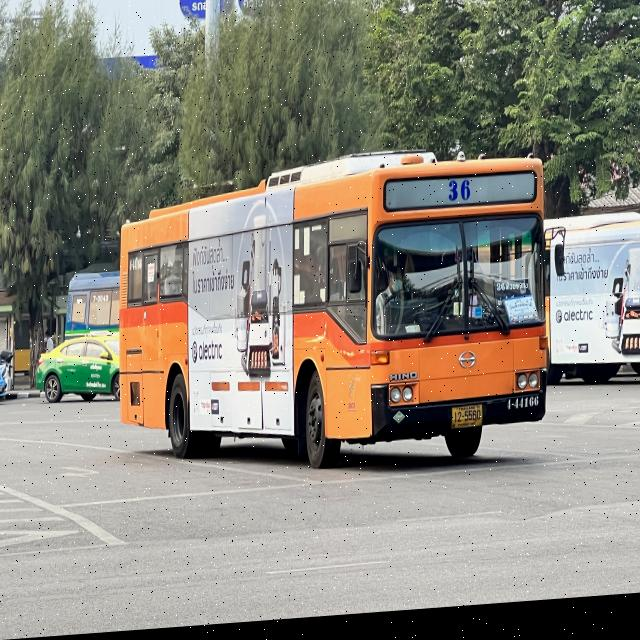BMTA-bus: (117, 149, 551, 489)
Bus-Line-Number: (444, 178, 474, 212)
Destination-Sign-Normal: (494, 283, 533, 321)
